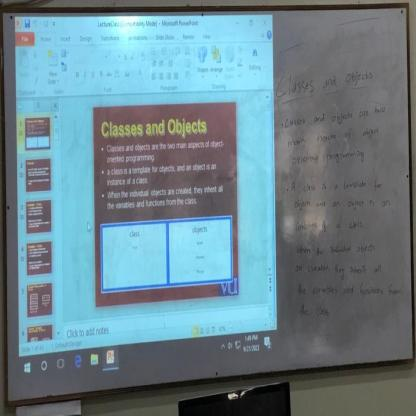Handwritten text: (268, 49, 380, 106), (280, 97, 390, 133), (282, 121, 384, 153), (291, 278, 407, 300), (290, 143, 369, 170), (292, 258, 386, 279), (288, 175, 384, 194), (292, 237, 378, 258), (291, 197, 396, 214), (292, 214, 368, 233), (296, 303, 333, 323)
Whiteboard: (0, 1, 416, 401)
